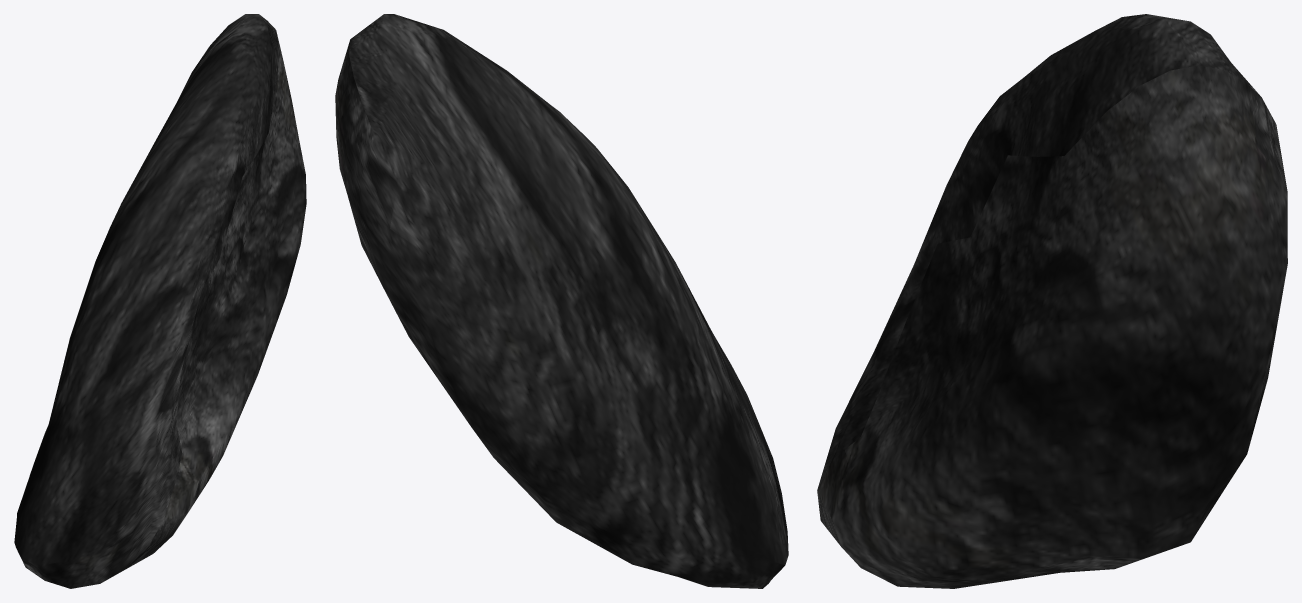
The model's file is Single_asteroid_Smal_2.fbx.
The picture shows the model from 3 angles, left to right: view 1: azimuth 30°, elevation 25°; view 2: azimuth 150°, elevation 25°; view 3: azimuth 270°, elevation 25°; orthographic projection. The views are drawn at different scales.
Parts seen in each view (by area): view 1: singleSmal; view 2: singleSmal; view 3: singleSmal.
Part boxes in pixels (x1=…): singleSmal: x1=14, y1=14, x2=306, y2=588; singleSmal: x1=335, y1=14, x2=788, y2=588; singleSmal: x1=817, y1=14, x2=1287, y2=588.
Size of the model in its own units: 1.05 by 1.44 by 0.804.
1 material, 1 textured.
